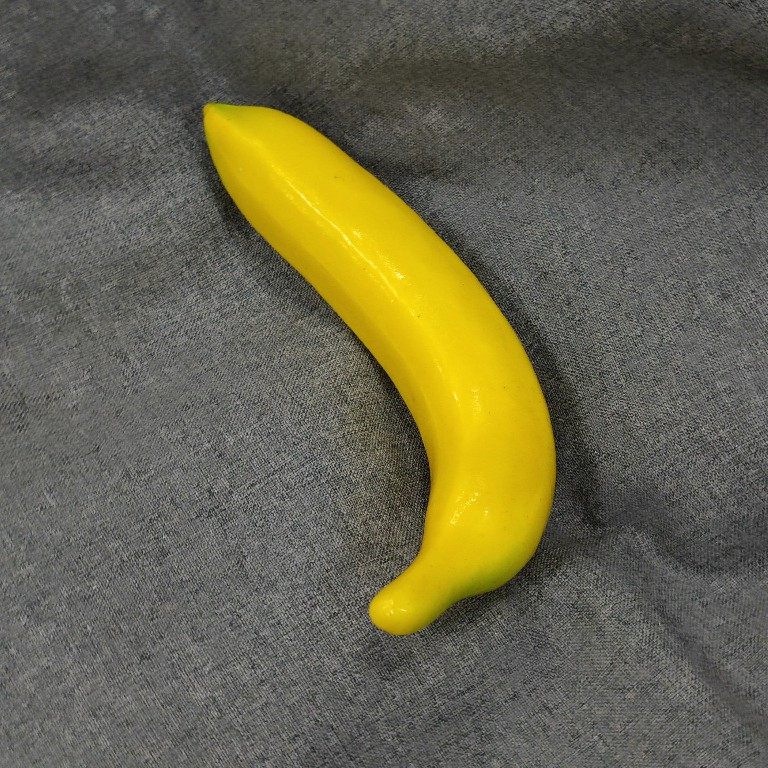fruit_banana: (194, 96, 561, 639)
